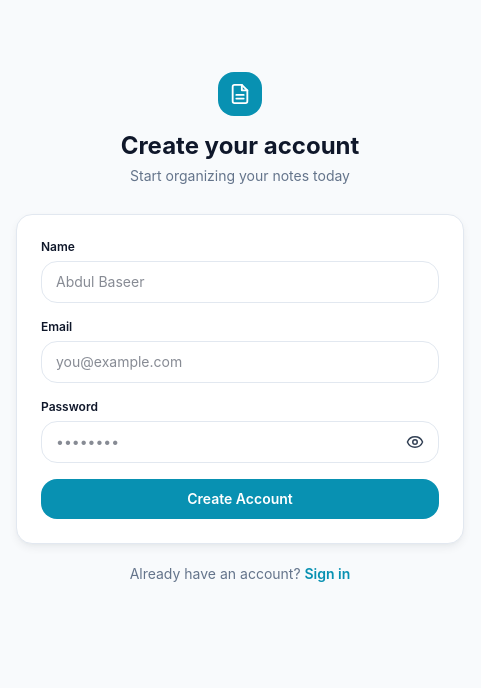
Test: SignupPage › shows and hides the password while preserving its value without submitting
In the password field labelled "Password": (240, 442) [41,421,439,463], type "Password123!"
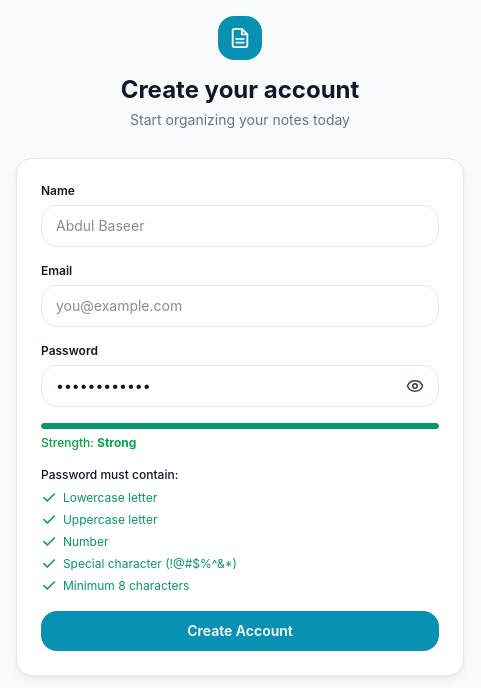
Click the button named "Show password": (415, 386) [395,368,435,404]
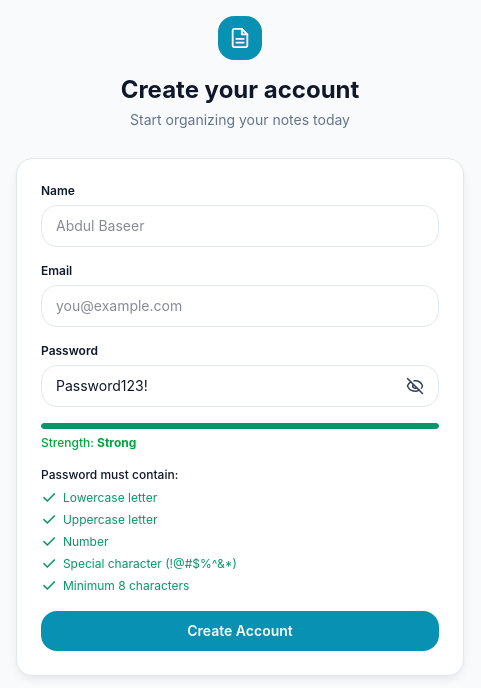
Check: the field labelled "Password" shows its text, box [41,365,439,407]
Click the button named "Hide password": (415, 386) [395,368,435,404]
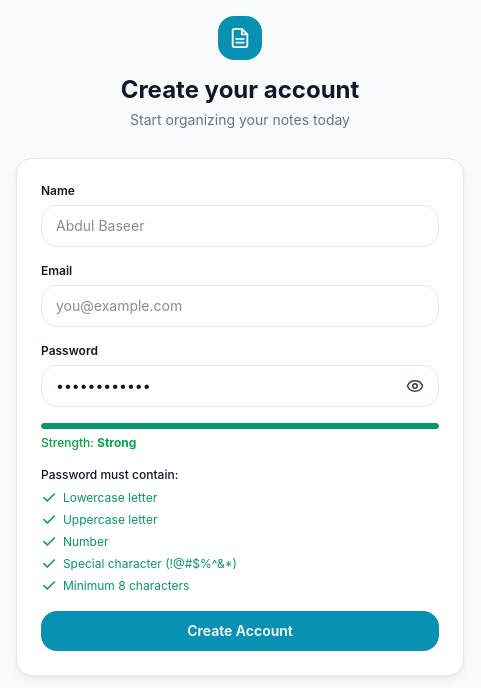
Check: the password field labelled "Password" hides its text, box [41,365,439,407]
